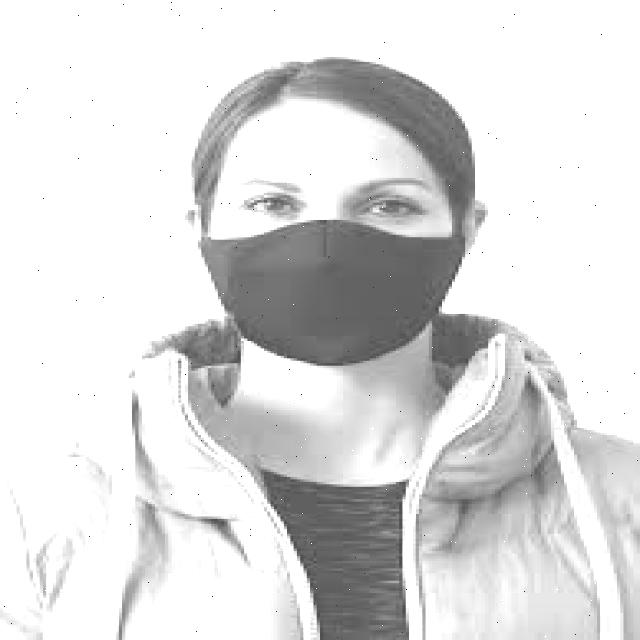fake: (195, 216, 469, 370)
real: (205, 100, 456, 373)
